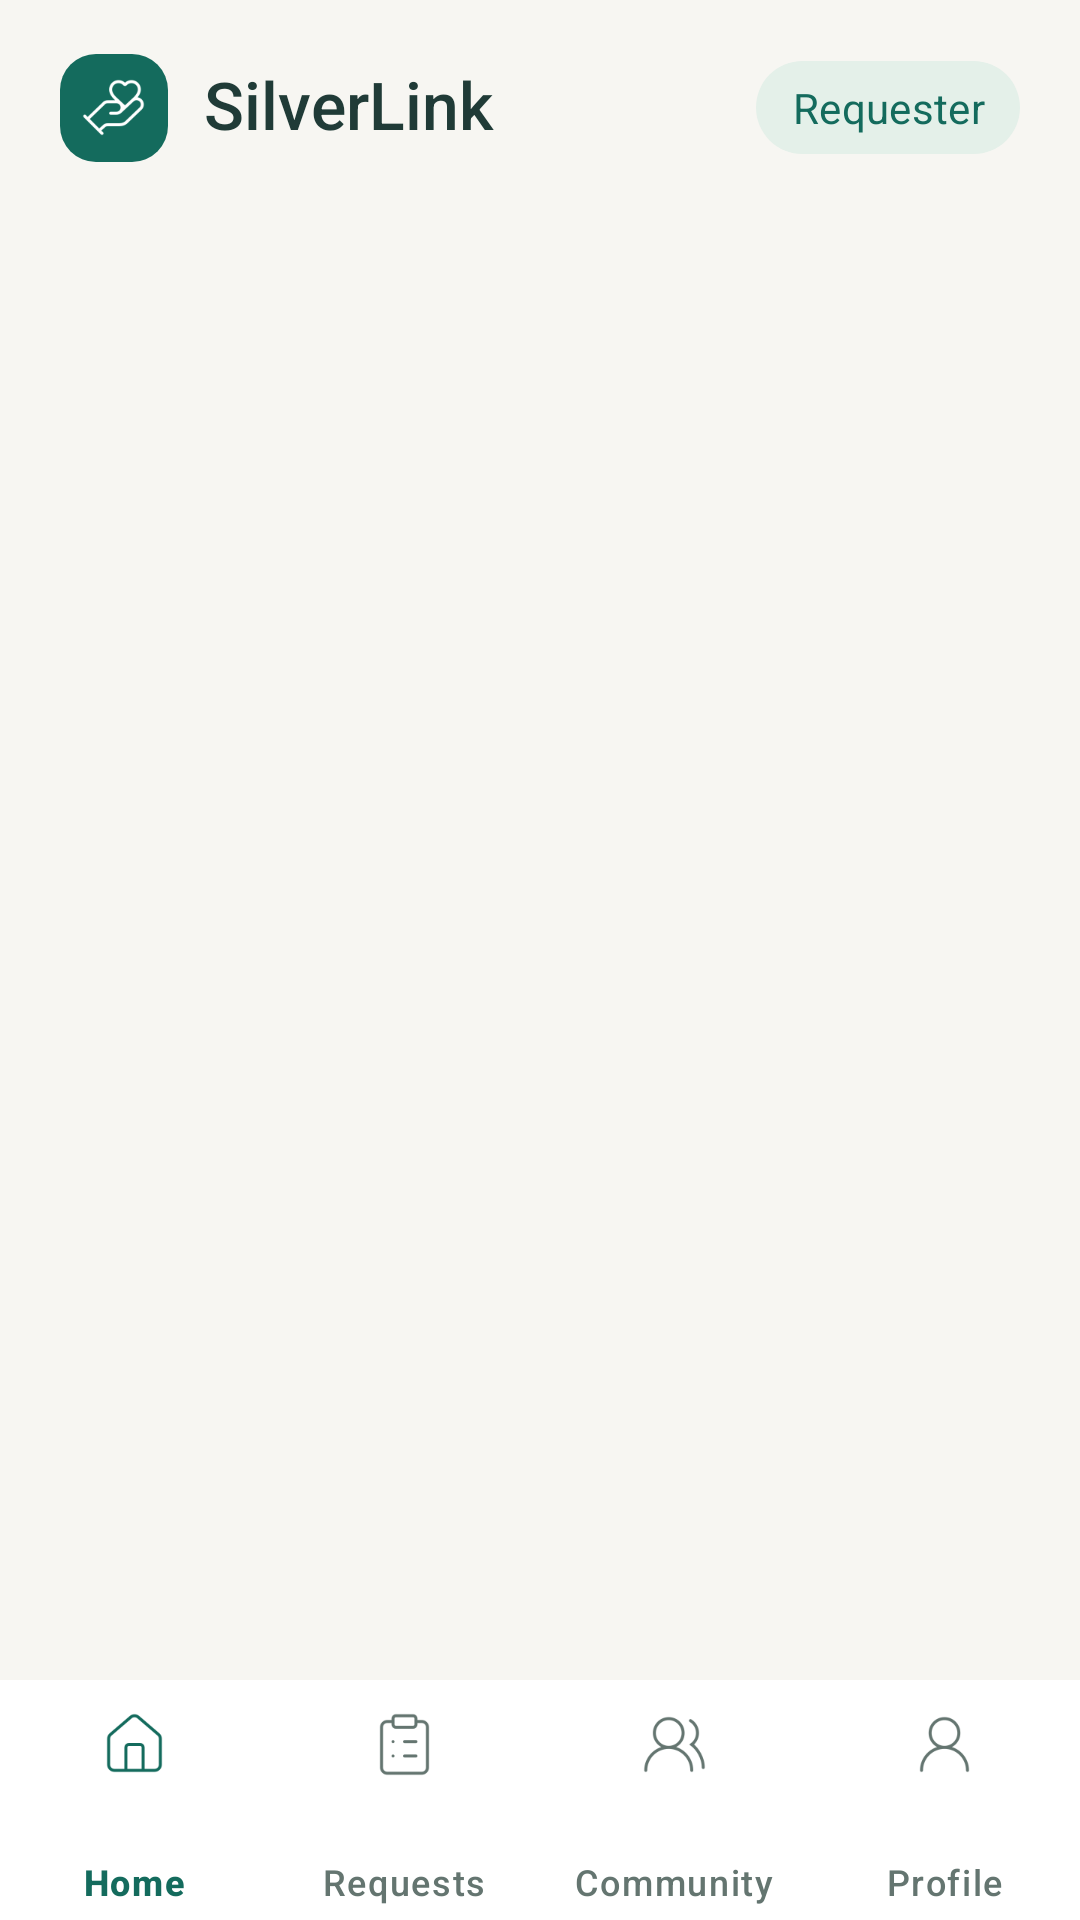

Where icons sit on this 1080w x 1920h app screen, as BBox(x1, y1, x2, y2):
home hand heart: BBox(83, 80, 144, 135)
